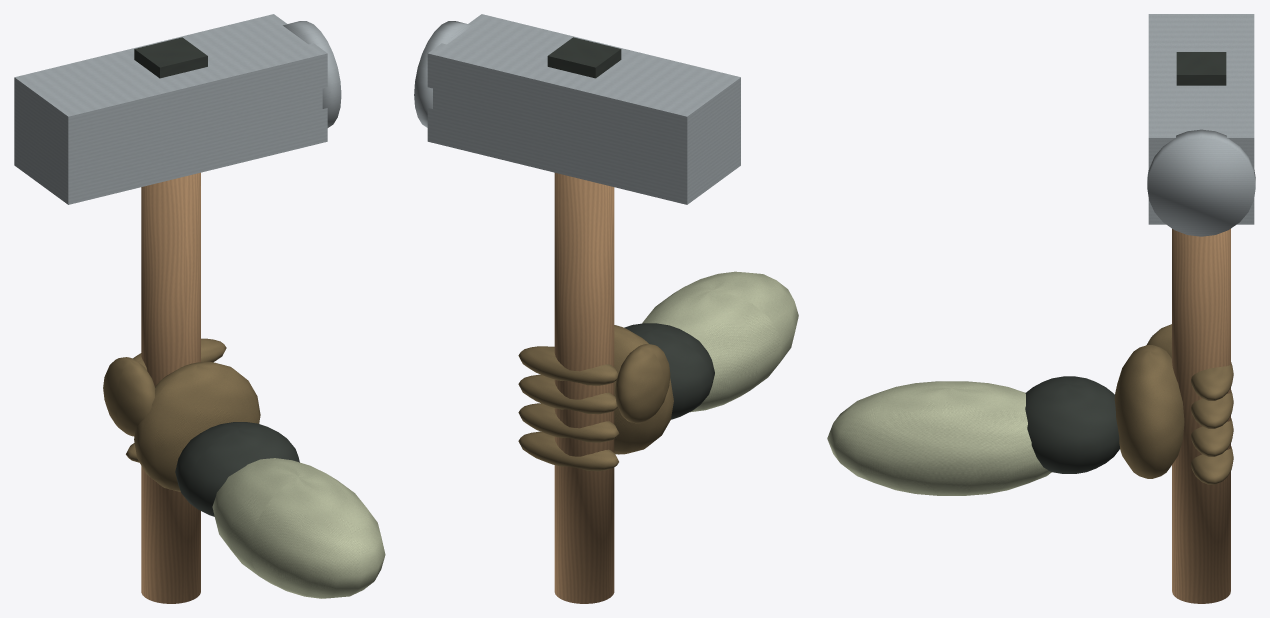
The model's file is support_hammer.glb.
3 views of the same model, side by side, from view 1: azimuth 30°, elevation 25°; view 2: azimuth 150°, elevation 25°; view 3: azimuth 270°, elevation 25° (orthographic). The views are drawn at different scales.
Visible parts, largest first — view 1: forged hammer head, hammer ash haft, canvas sleeve, gloved palm, glove cuff, opposing thumb, handle wedge, striking face, curled grip finger.003; view 2: forged hammer head, hammer ash haft, canvas sleeve, glove cuff, opposing thumb, gloved palm, handle wedge, curled grip finger.003, curled grip finger, curled grip finger.001, curled grip finger.002, striking face; view 3: canvas sleeve, hammer ash haft, forged hammer head, striking face, glove cuff, gloved palm, handle wedge, curled grip finger.003, curled grip finger, curled grip finger.001, curled grip finger.002.
Part boxes in pixels (box(x1,y1,x2,y2)): forged hammer head: box(14, 14, 327, 204); hammer ash haft: box(141, 172, 200, 603); canvas sleeve: box(212, 458, 385, 598); gloved palm: box(134, 361, 260, 491); glove cuff: box(175, 422, 299, 516); opposing thumb: box(103, 357, 155, 436); handle wedge: box(134, 37, 207, 78); striking face: box(283, 21, 341, 127); curled grip finger.003: box(133, 338, 226, 370); forged hammer head: box(427, 14, 740, 204); hammer ash haft: box(554, 173, 614, 603); canvas sleeve: box(642, 271, 798, 412); glove cuff: box(624, 323, 714, 419); opposing thumb: box(615, 344, 670, 423); gloved palm: box(614, 325, 673, 454); handle wedge: box(547, 37, 621, 78); curled grip finger.003: box(518, 346, 618, 385); curled grip finger: box(518, 431, 618, 471); curled grip finger.001: box(518, 403, 619, 442); curled grip finger.002: box(518, 374, 617, 414); striking face: box(414, 21, 472, 127); canvas sleeve: box(827, 381, 1051, 495); hammer ash haft: box(1172, 229, 1230, 603); forged hammer head: box(1148, 14, 1254, 224); striking face: box(1147, 129, 1255, 236); glove cuff: box(1025, 376, 1119, 473); gloved palm: box(1114, 345, 1184, 478); handle wedge: box(1176, 52, 1226, 85); curled grip finger.003: box(1191, 362, 1233, 400); curled grip finger: box(1191, 446, 1233, 484); curled grip finger.001: box(1191, 418, 1233, 456); curled grip finger.002: box(1191, 390, 1233, 428).
Size of the model in its own units: 0.21 by 0.397 by 0.292.
Materials: 5 (5 with a texture image).
